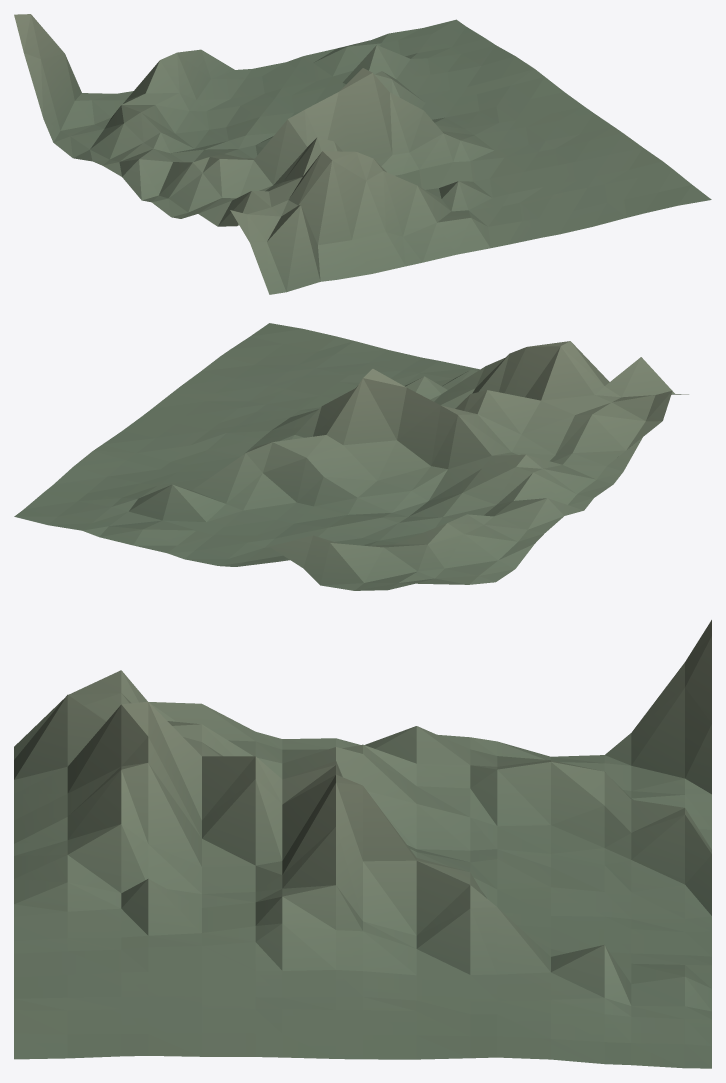
The model's file is tile_3_3.glb.
3 renders of one model, top to bottom at view 1: azimuth 30°, elevation 25°; view 2: azimuth 150°, elevation 25°; view 3: azimuth 270°, elevation 25°, orthographic. The views are drawn at different scales.
Visible parts, largest first — view 1: geometry_0; view 2: geometry_0; view 3: geometry_0.
Boxes of the visible parts, bbox=[...] form: geometry_0: bbox=[14, 14, 711, 294]; geometry_0: bbox=[14, 323, 688, 590]; geometry_0: bbox=[14, 620, 711, 1068].
Size of the model in its own units: 127 by 31.37 by 127.
